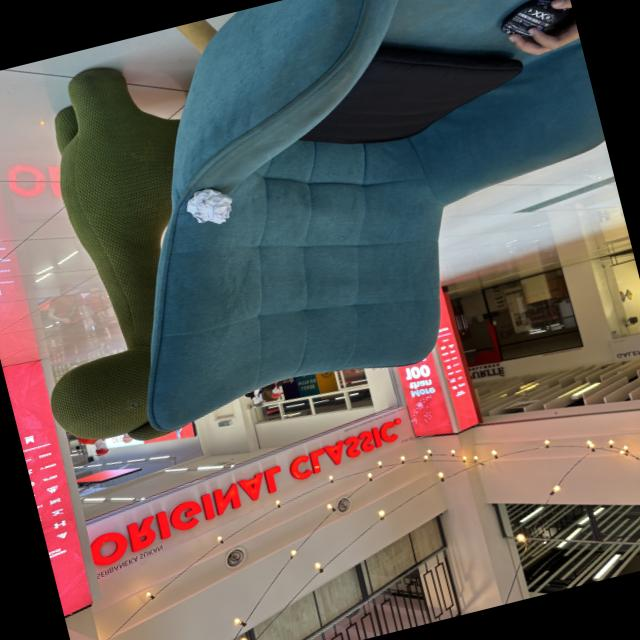crumpled_paper: (177, 179, 240, 237)
